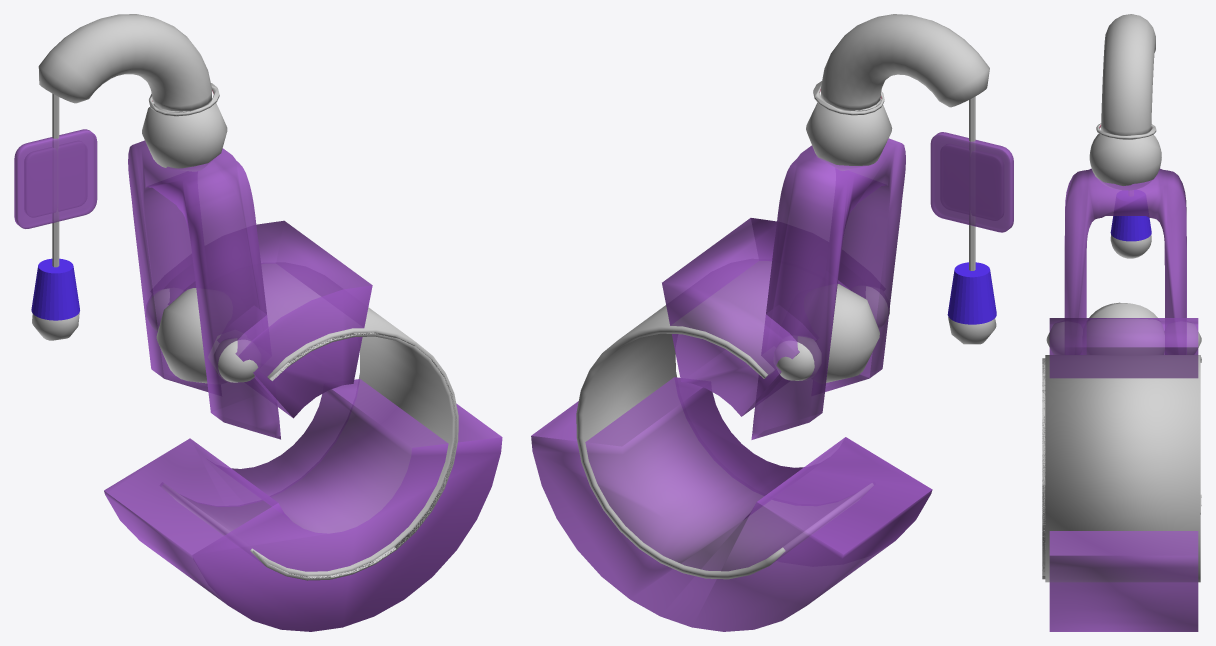
Rendered from desen_tool.obj.
3 views of the same model, side by side, from view 1: azimuth 30°, elevation 25°; view 2: azimuth 150°, elevation 25°; view 3: azimuth 270°, elevation 25° (orthographic). The views are drawn at different scales.
Visible parts, largest first — view 1: Sphere.021_Material.4, Sphere.021_shiny1, Sphere.021_Material.005, Sphere.021_Material.014, Sphere.021_metal; view 2: Sphere.021_Material.4, Sphere.021_shiny1, Sphere.021_Material.005, Sphere.021_Material.014, Sphere.021_metal; view 3: Sphere.021_shiny1, Sphere.021_Material.4, Sphere.021_Material.014, Sphere.021_metal.
Boxes of the visible parts, left/top/right/bottom form: Sphere.021_Material.4: left=14, top=129, right=502, bottom=631; Sphere.021_shiny1: left=38, top=14, right=458, bottom=580; Sphere.021_Material.005: left=24, top=141, right=87, bottom=217; Sphere.021_Material.014: left=31, top=258, right=79, bottom=320; Sphere.021_metal: left=32, top=313, right=79, bottom=340; Sphere.021_Material.4: left=531, top=132, right=1013, bottom=631; Sphere.021_shiny1: left=576, top=14, right=989, bottom=579; Sphere.021_Material.005: left=940, top=144, right=1003, bottom=220; Sphere.021_Material.014: left=947, top=262, right=996, bottom=324; Sphere.021_metal: left=948, top=317, right=996, bottom=344; Sphere.021_shiny1: left=1042, top=14, right=1201, bottom=582; Sphere.021_Material.4: left=1049, top=168, right=1198, bottom=631; Sphere.021_Material.014: left=1110, top=216, right=1151, bottom=241; Sphere.021_metal: left=1110, top=235, right=1151, bottom=258.
Size of the model in its own units: 20.72 by 27.93 by 7.76.
